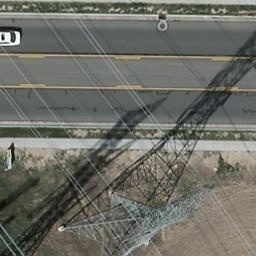car: (0, 31, 20, 47)
